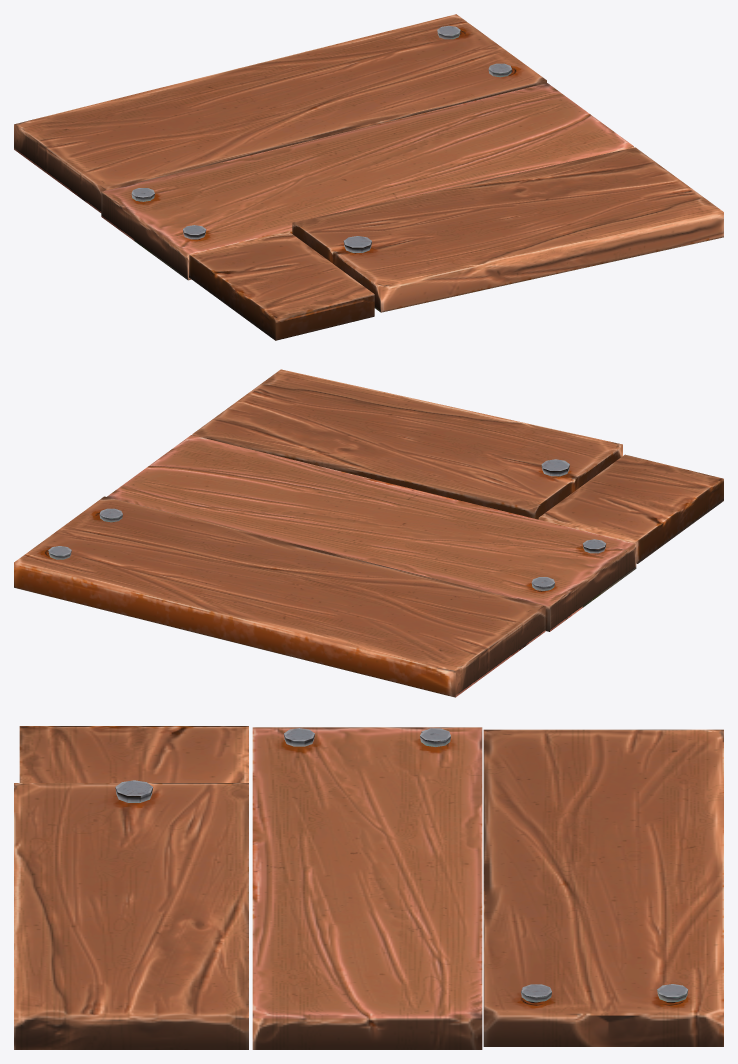
Rendered from SM_plank1.fbx.
3 renders of one model, top to bottom at view 1: azimuth 30°, elevation 25°; view 2: azimuth 150°, elevation 25°; view 3: azimuth 270°, elevation 25°, orthographic. The views are drawn at different scales.
Visible parts, largest first — view 1: Planche; view 2: Planche; view 3: Planche.
Boxes of the visible parts, box(x1,y1,x2,y2) form: Planche: box(14, 14, 723, 340); Planche: box(14, 369, 723, 697); Planche: box(14, 726, 723, 1049).
Bounding box in the file's own units: 152 × 158 × 13.17.
1 material, 1 textured.
